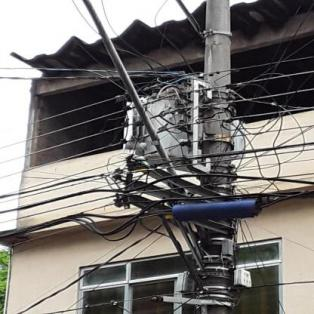Poste: (189, 1, 240, 312)
